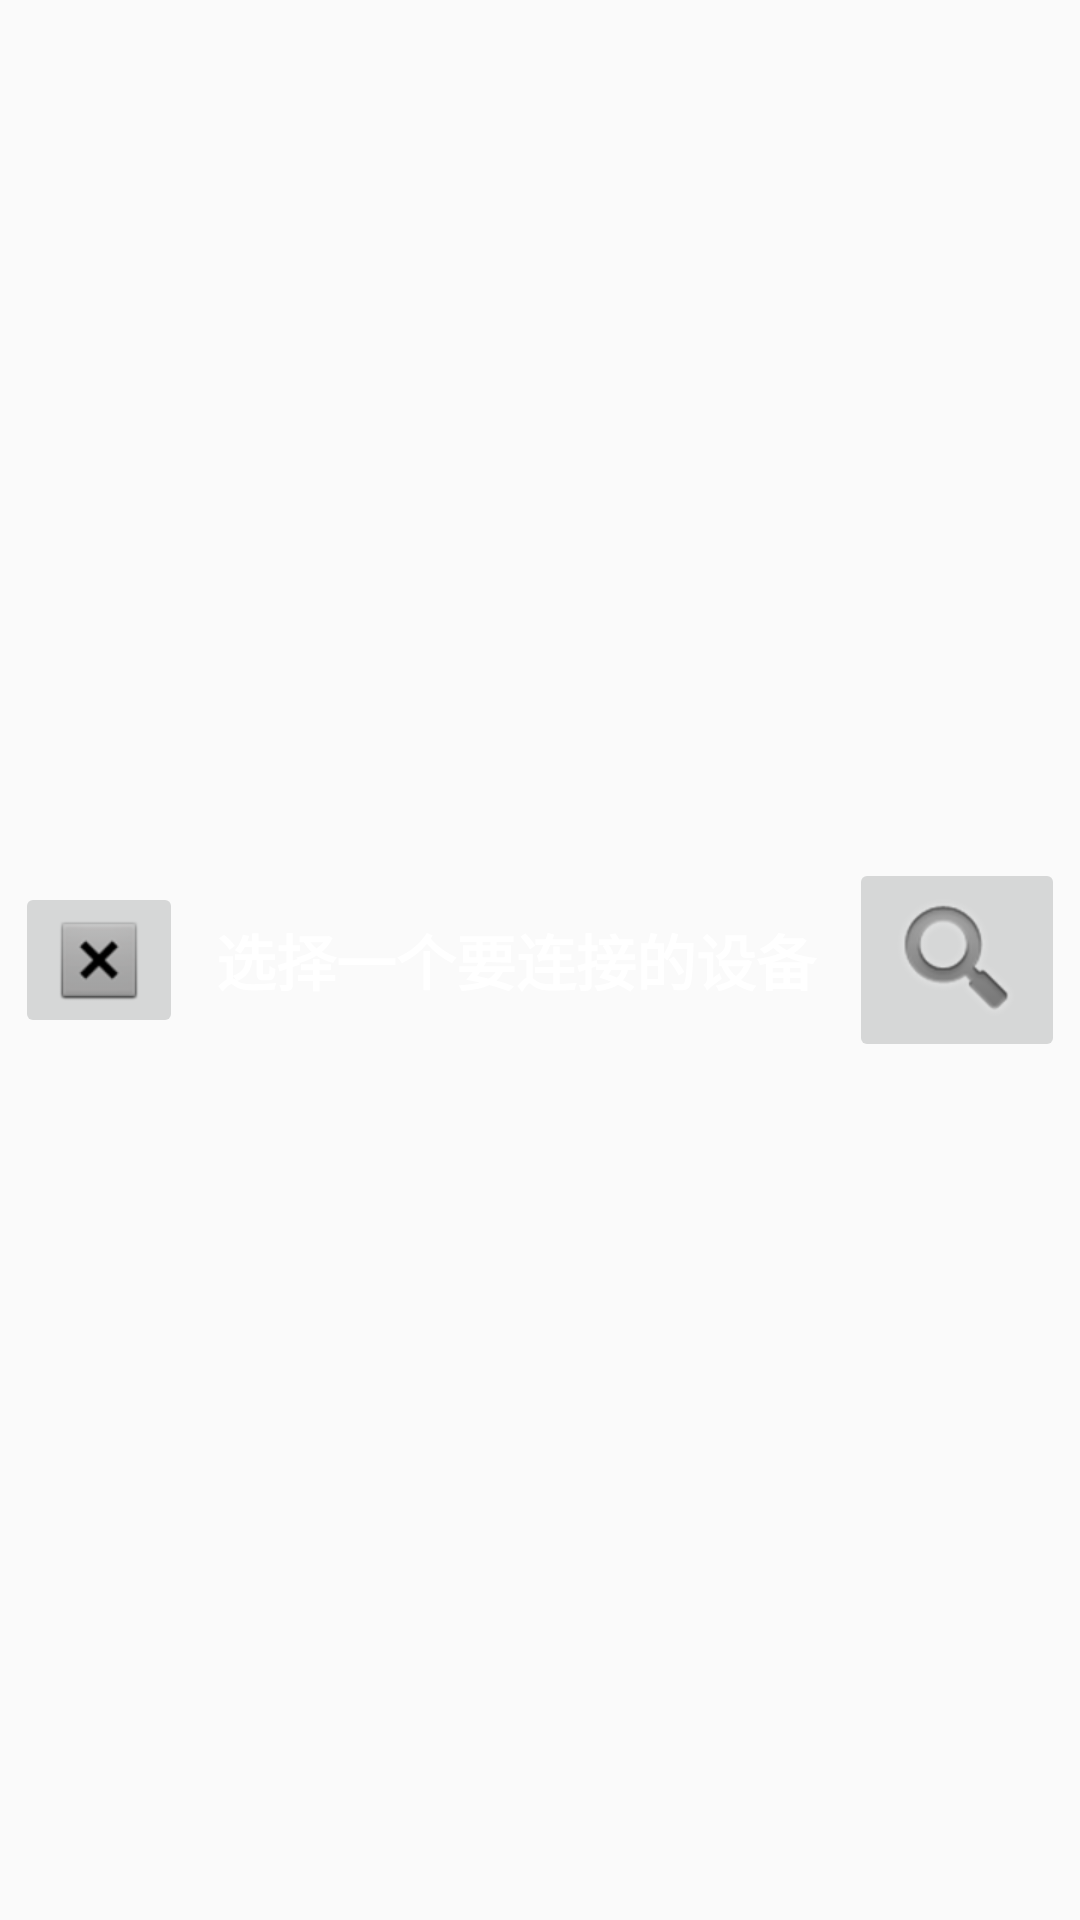

Icons on this 1080x1920 Android screen, each with its box as (left=x1, top=y1, right=x2, bottom=y2):
search category: (left=861, top=876, right=1053, bottom=1044)
